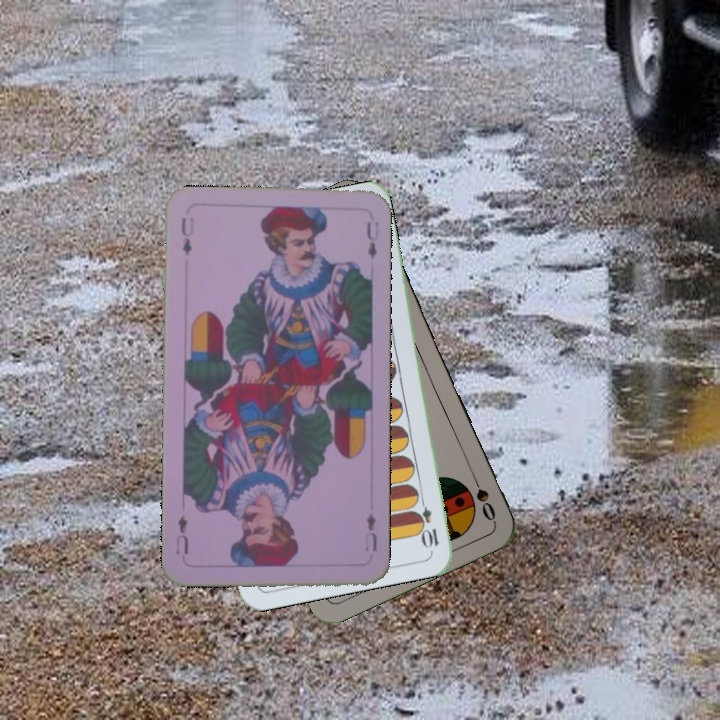E10: (414, 492, 442, 551)
EU: (177, 213, 197, 258), (360, 509, 379, 554)
SO: (466, 467, 498, 524)
